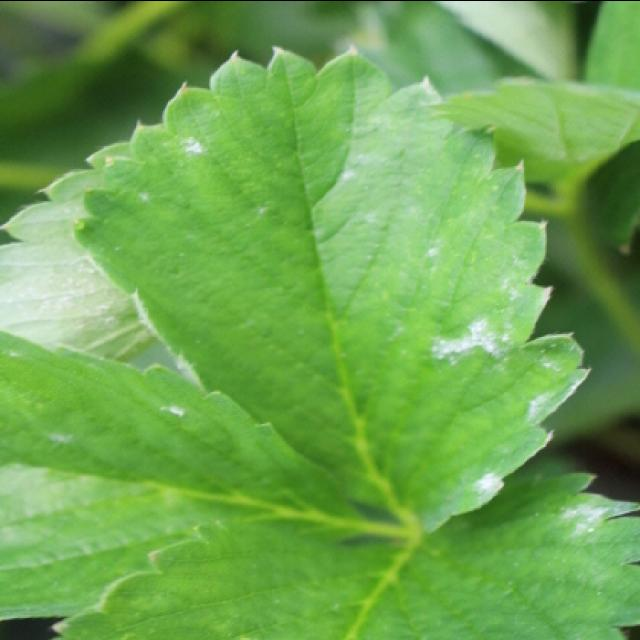Powdery Mildew Leaf: (71, 42, 593, 538), (0, 330, 387, 620), (50, 452, 638, 638)
